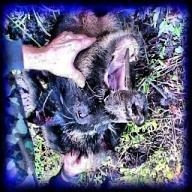boar: (20, 10, 148, 170)
